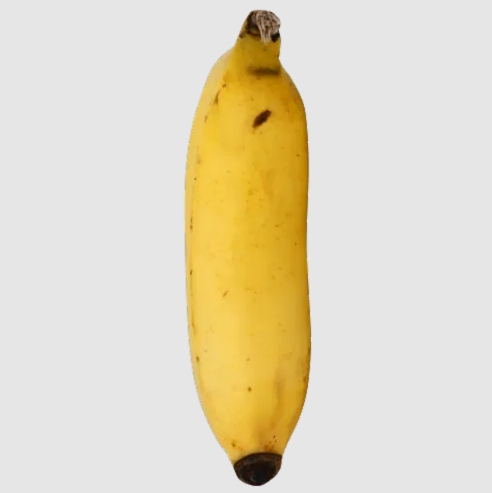banana: (123, 5, 354, 489)
